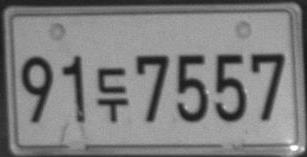1: (60, 55, 93, 123)
5: (214, 53, 247, 122), (176, 54, 208, 122)
7: (250, 52, 284, 121), (136, 55, 170, 122)
9: (20, 55, 53, 123)
두: (97, 67, 129, 123)
